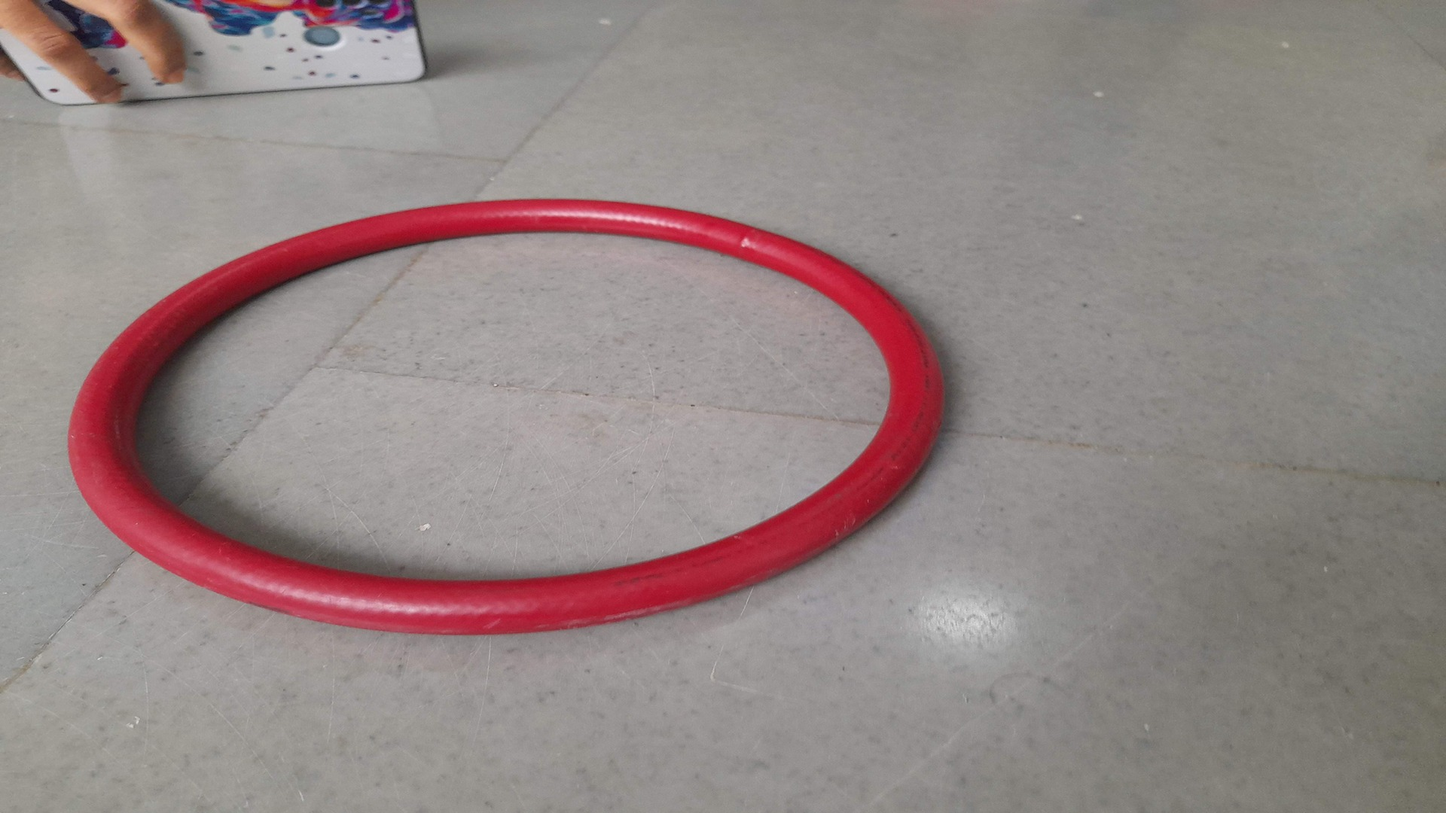Red ring: (67, 198, 944, 637)
